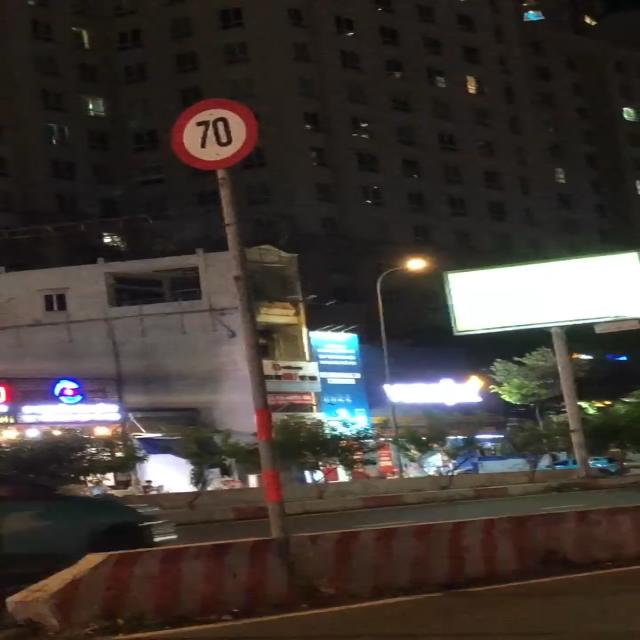Bien bao toc do toi da cho phep: (165, 90, 262, 166)
